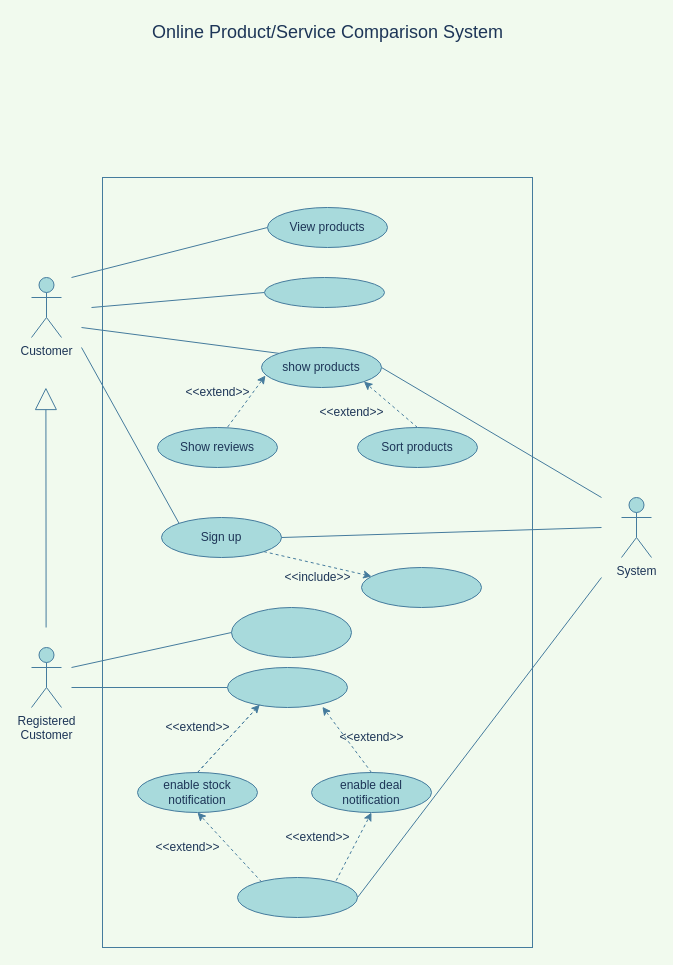
This 673x965 diagram has some shape labels left out. Here are the shapes that lost their labels. From the top down, the centre of each, then its label:
At [324,292]: "Search products".
At [421,587]: "Verify phone/email".
At [291,632]: "submit review".
At [287,687]: "Wishlist".
At [297,897]: "Notify".
